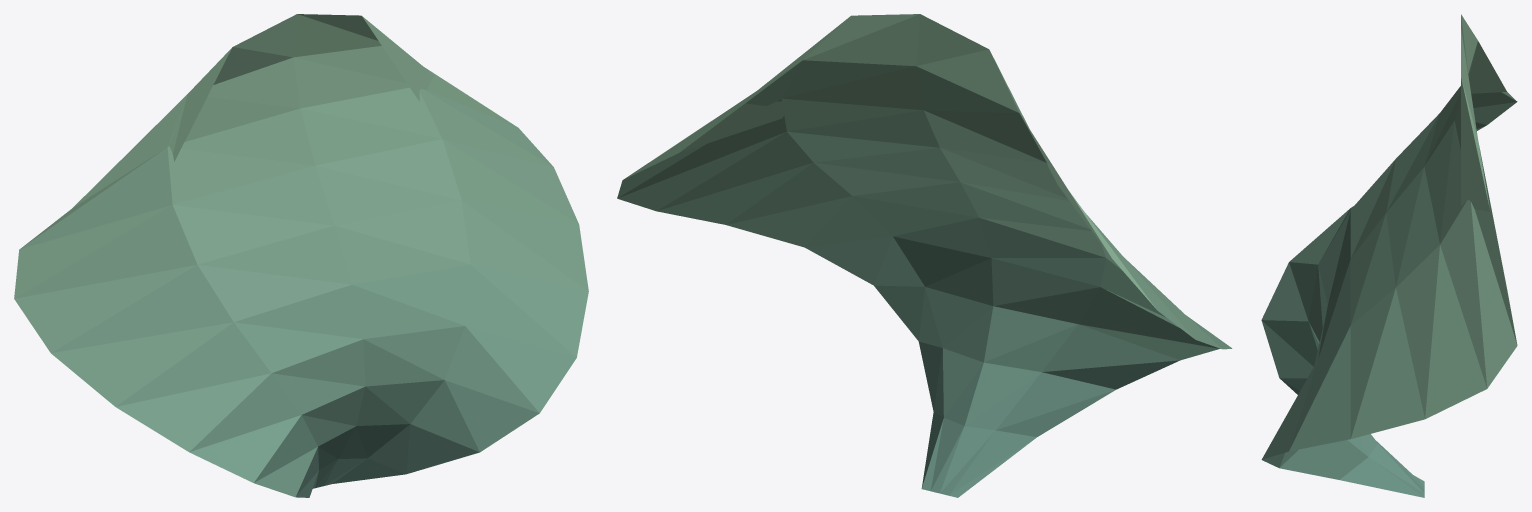
Rendered from Fan.gltf.
3 renders of one model, left to right at view 1: azimuth 30°, elevation 25°; view 2: azimuth 150°, elevation 25°; view 3: azimuth 270°, elevation 25°, orthographic. The views are drawn at different scales.
Parts seen in each view (by area): view 1: Fan; view 2: Fan; view 3: Fan.
Part boxes in pixels (left/top/right/bottom): Fan: left=14, top=14, right=588, bottom=497; Fan: left=617, top=14, right=1232, bottom=497; Fan: left=1261, top=14, right=1517, bottom=497.
Bounding box in the file's own units: 1.23 × 1 × 0.5029.
